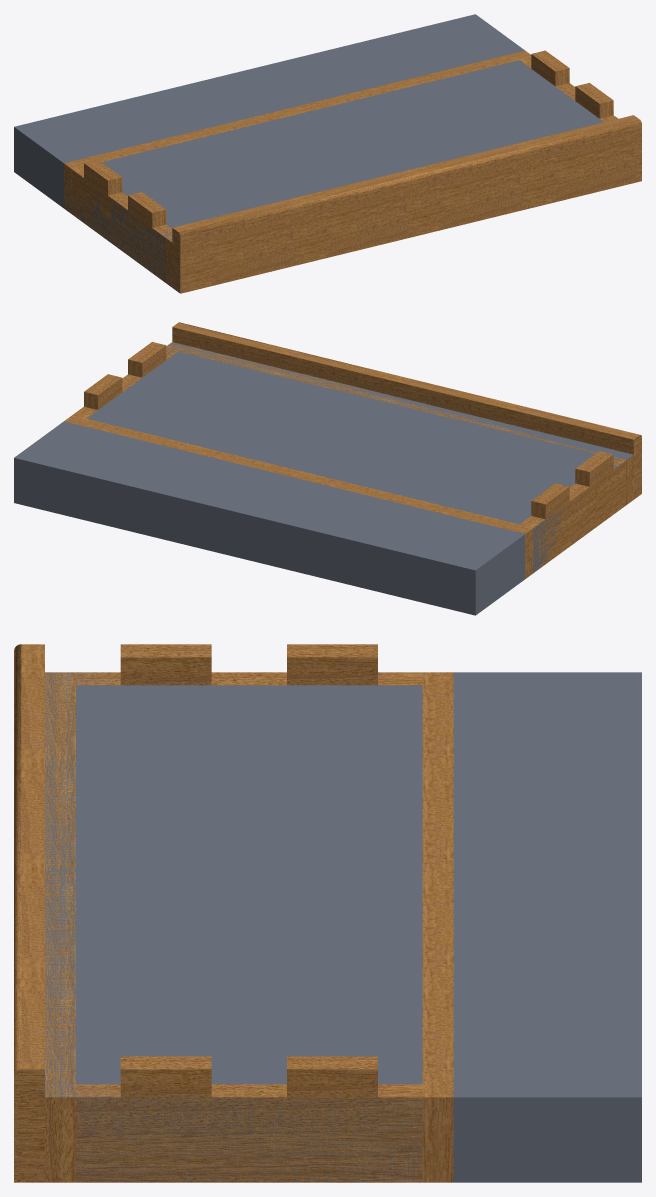
File: VCKS0030.glb
3 views of the same model, one above another, from view 1: azimuth 30°, elevation 25°; view 2: azimuth 150°, elevation 25°; view 3: azimuth 270°, elevation 25° (orthographic). The views are drawn at different scales.
Visible parts, largest first — view 1: _bb, G-Group#47; view 2: _bb, G-Group#47; view 3: _bb, G-Group#47.
Part boxes in pixels (x1,y1,x2,y2): _bb: (14,14,614,291); G-Group#47: (64,50,641,293); _bb: (14,342,633,615); G-Group#47: (64,322,641,578); _bb: (45,672,641,1182); G-Group#47: (14,644,453,1182).
Bounding box in the file's own units: 0.406 × 0.0505 × 0.2535.
3 materials, 2 textured.
